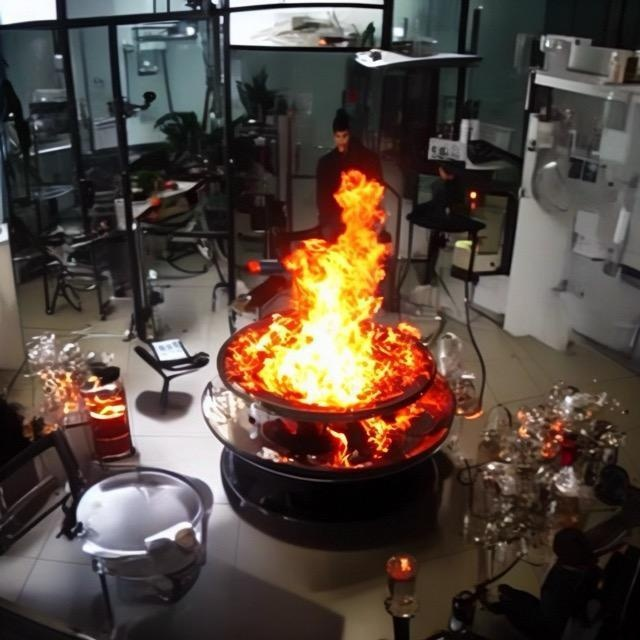fire: (230, 162, 424, 433), (35, 342, 132, 433)
